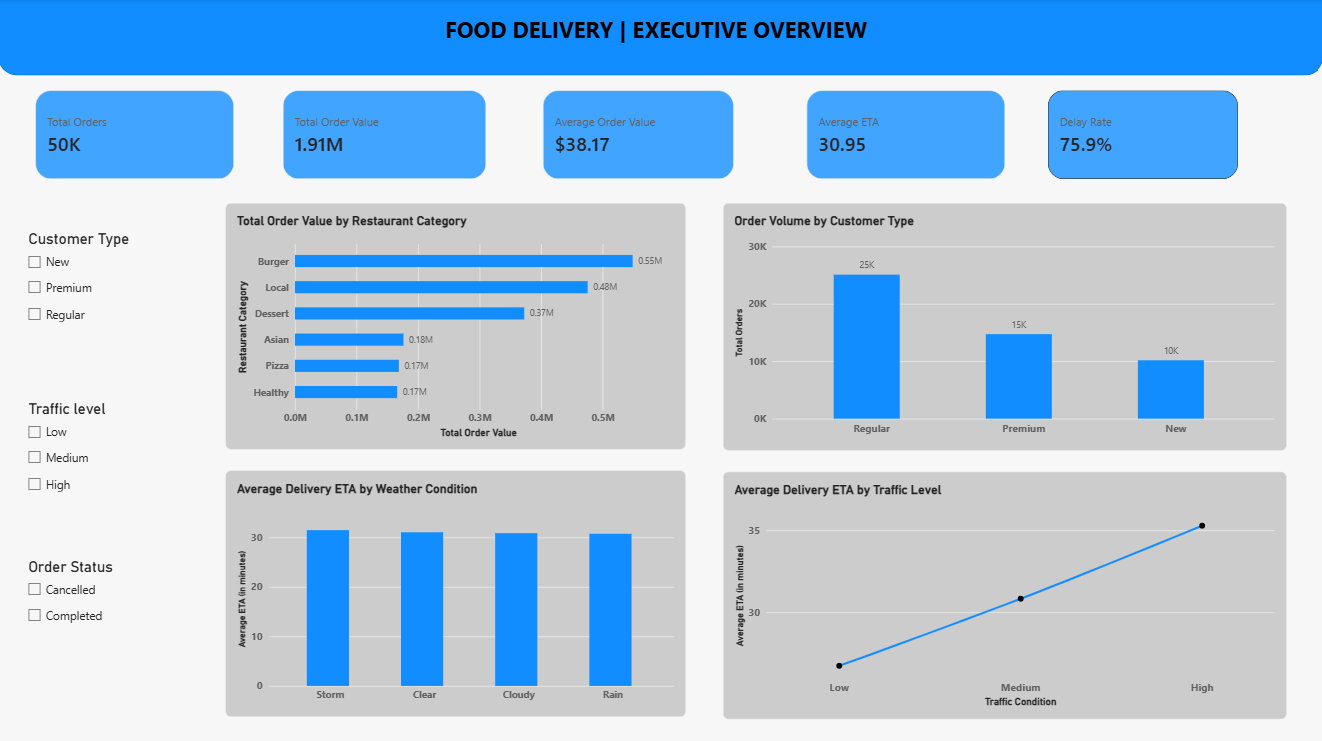

What the dashboard file says about the page in this screenshot:
{"tool":"powerbi","page":{"name":"Executive Overview","canvas":[1920,1080],"ordinal":0},"visuals":[{"type":"cardVisual","fields":{"Data":["FDA.Total Orders"]},"box":[54.3,133.9,287.7,128.5],"z":0},{"type":"cardVisual","fields":{"Data":["FDA.Total Order Value"]},"box":[412.6,133.9,295,128.5],"z":1000},{"type":"cardVisual","fields":{"Data":["FDA.Average Order Value"]},"box":[789,133.9,276.9,128.5],"z":2000},{"type":"cardVisual","fields":{"Data":["FDA.Average ETA"]},"box":[1170.9,133.9,287.7,128.5],"z":3000},{"type":"cardVisual","fields":{"Data":["FDA.Delay Rate"]},"box":[1520.1,133.9,275.1,128.5],"z":4000},{"type":"clusteredBarChart","title":"Total Order Value by Restaurant Category","fields":{"Category":["FDA.restaurant_primary_category"],"Y":["FDA.Total Order Value"]},"box":[330,296.7,666.7,356.7],"z":5000},{"type":"clusteredColumnChart","title":"Order Volume by Customer Type","fields":{"Category":["FDA.customer_type"],"Y":["FDA.Total Orders"]},"box":[1050,296,816,358],"z":6000},{"type":"lineChart","title":"Average Delivery ETA by Traffic Level","fields":{"Category":["FDA.traffic_level"],"Y":["FDA.Average ETA"]},"box":[1050,686,816,358],"z":7000},{"type":"clusteredColumnChart","title":"Average Delivery ETA by Weather Condition","fields":{"Category":["FDA.weather"],"Y":["FDA.Average ETA"]},"box":[330,683.3,666.7,356.7],"z":8000},{"type":"slicer","fields":{"Values":["FDA.customer_type"]},"box":[36.7,336.7,236.7,170],"z":9000},{"type":"slicer","fields":{"Values":["FDA.traffic_level"]},"box":[36.7,583.3,236.7,140],"z":10000},{"type":"slicer","fields":{"Values":["FDA.order_status"]},"box":[36.7,810,236.7,110],"z":11000},{"type":"shape","box":[0,0,1920.1,112.2],"z":12000},{"type":"textbox","box":[0,23.5,1905.6,56.1],"z":13000}]}

Visuals, with their boxes in screenshot pixels (x1, y1, x2, y2), scaled from the page's 1920x1080 canvas onto the 1322x741 screenshot:
cardVisual - FDA.Total Orders: 37 92 235 180
cardVisual - FDA.Total Order Value: 284 92 487 180
cardVisual - FDA.Average Order Value: 543 92 734 180
cardVisual - FDA.Average ETA: 806 92 1004 180
cardVisual - FDA.Delay Rate: 1047 92 1236 180
"Total Order Value by Restaurant Category" clusteredBarChart: 227 204 686 448
"Order Volume by Customer Type" clusteredColumnChart: 723 203 1285 449
"Average Delivery ETA by Traffic Level" lineChart: 723 471 1285 716
"Average Delivery ETA by Weather Condition" clusteredColumnChart: 227 469 686 714
slicer - FDA.customer_type: 25 231 188 348
slicer - FDA.traffic_level: 25 400 188 496
slicer - FDA.order_status: 25 556 188 631
shape: 0 0 1321 77
textbox: 0 16 1312 55
